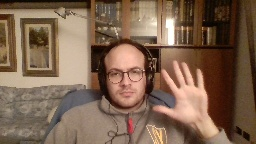Mano_aperta: (151, 60, 209, 125)
